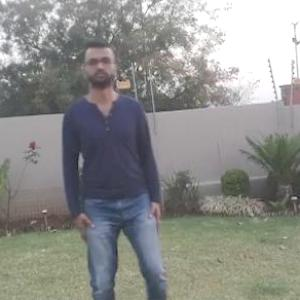follow: (66, 46, 158, 299)
